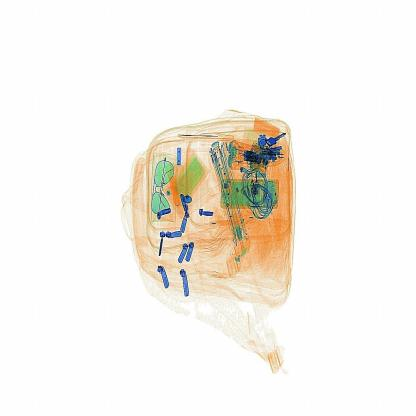pliers: (179, 123, 243, 148)
